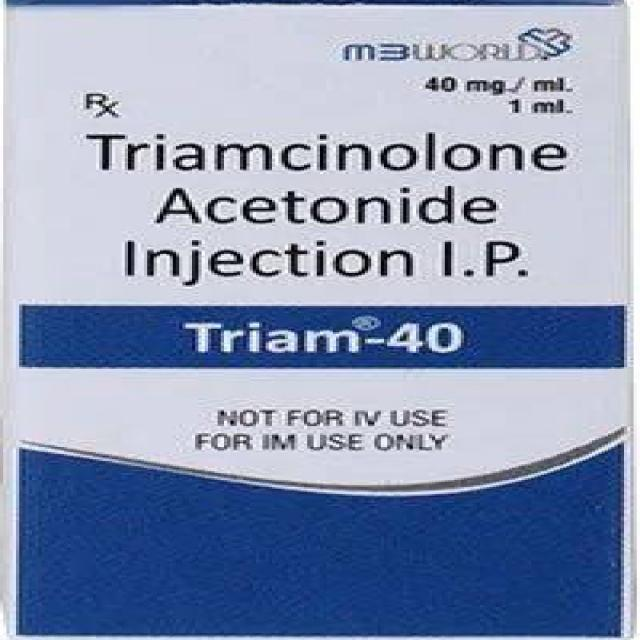drug-name: (180, 320, 469, 358)
